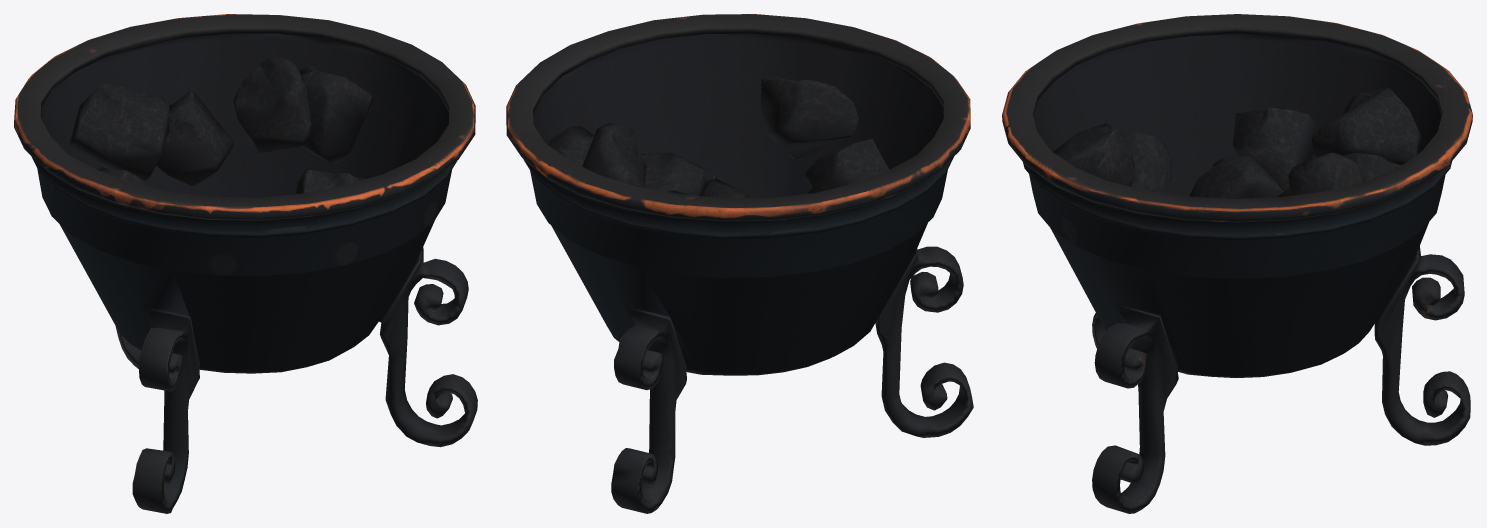
The picture shows the model from 3 angles, left to right: view 1: azimuth 30°, elevation 25°; view 2: azimuth 150°, elevation 25°; view 3: azimuth 270°, elevation 25°; orthographic projection.
Bounding box in the file's own units: 0.9531 × 0.7407 × 0.9575.
Materials: 1 (1 with a texture image).
